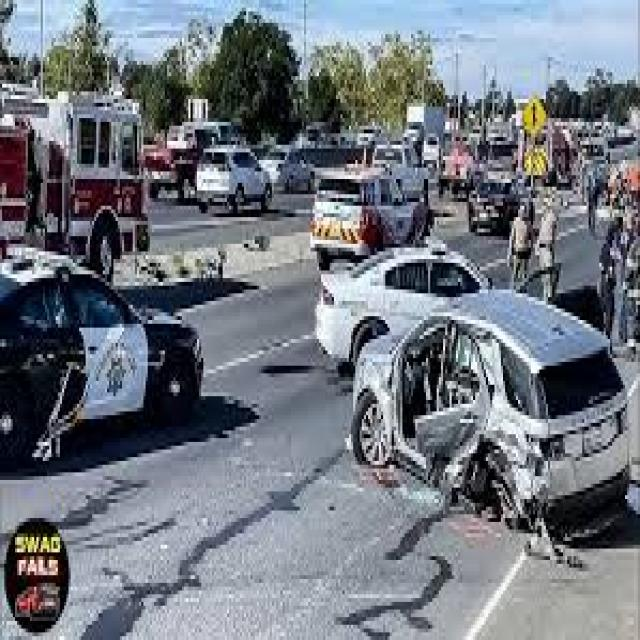car-serious-accident: (302, 256, 638, 569)
